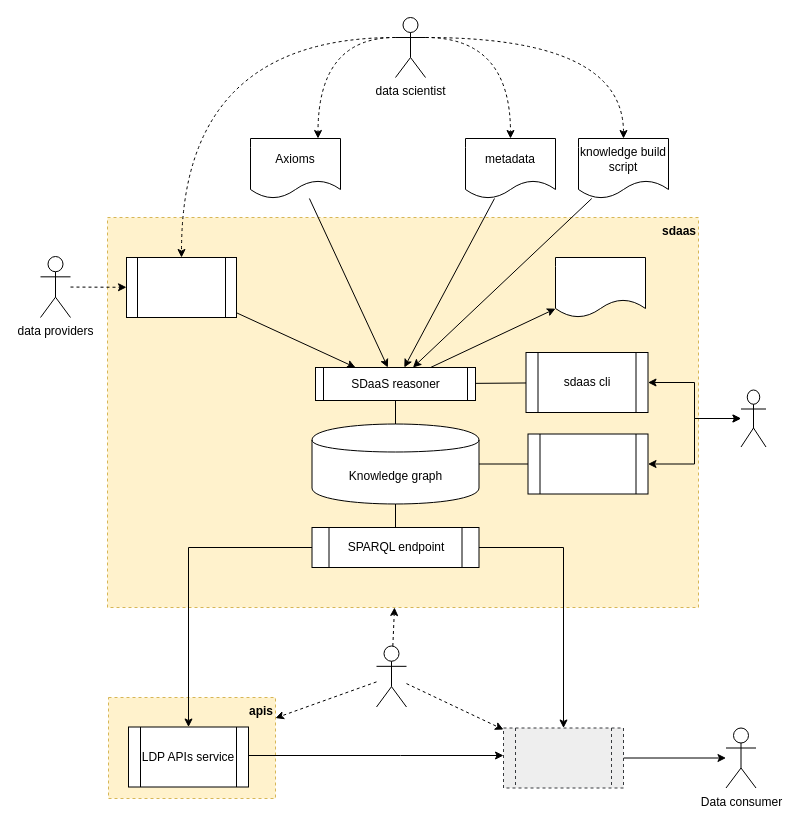
Some shapes in this 799 by 826 pixel diagram are drawn without their labels. Each missing label, with the centre of its shape:
"admin workbench service" belongs at point (587, 463).
"DB admin" belongs at point (753, 418).
"gateways" belongs at point (181, 287).
"infrastructure admin" belongs at point (391, 676).
"logs" belongs at point (600, 287).
"reverse proxy /cache" belongs at point (563, 757).
